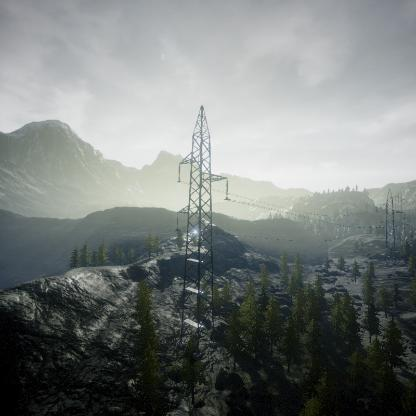tower: (174, 104, 231, 345), (374, 189, 407, 266)
